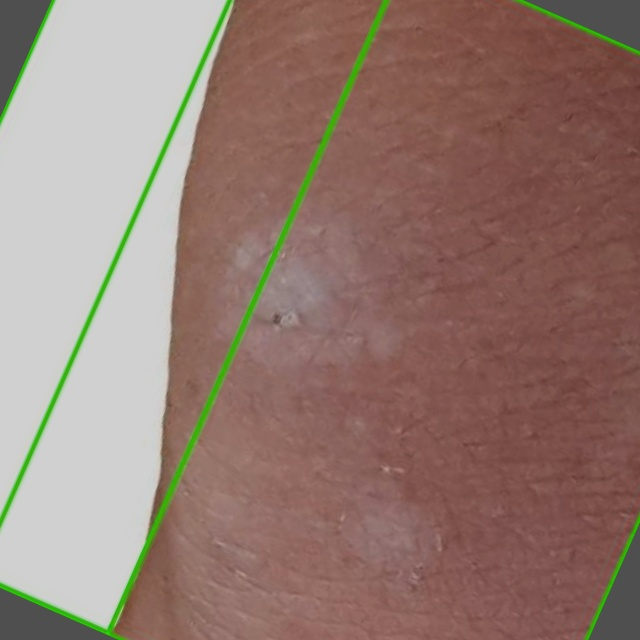Scabies: (0, 0, 639, 639), (0, 0, 387, 634)
